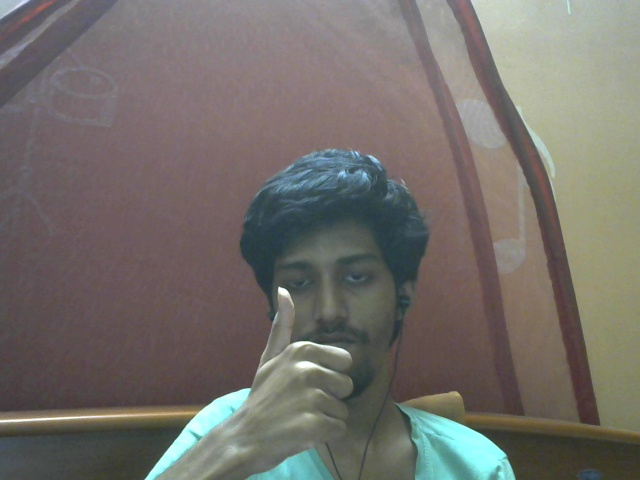ThumbsUp: (243, 287, 353, 470)
